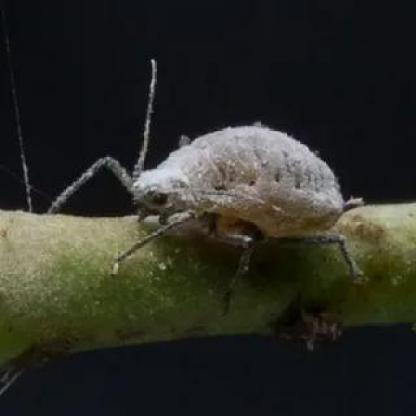aphid: (54, 77, 364, 266)
